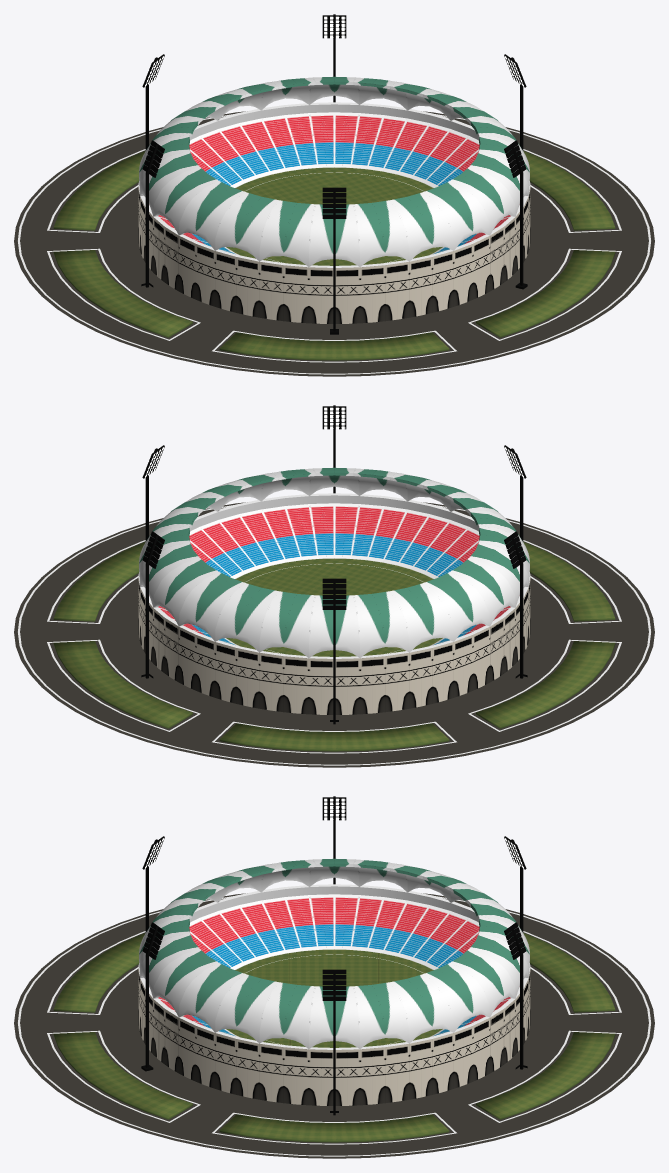
File: stadium.glb
3 renders of one model, top to bottom at view 1: azimuth 30°, elevation 25°; view 2: azimuth 150°, elevation 25°; view 3: azimuth 270°, elevation 25°, orthographic.
Visible parts, largest first — view 1: Ekana Stadium; view 2: Ekana Stadium; view 3: Ekana Stadium.
Part boxes in pixels (bbox=[...]): Ekana Stadium: bbox=[14, 14, 654, 376]; Ekana Stadium: bbox=[14, 405, 654, 767]; Ekana Stadium: bbox=[14, 796, 654, 1158].
Size of the model in its own units: 95.04 by 22.94 by 95.04.
1 material, 1 textured.
